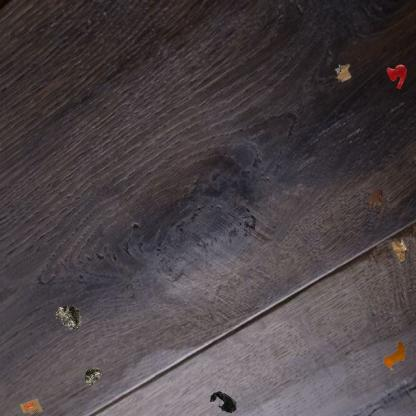dirty: (53, 304, 84, 332), (207, 389, 239, 415), (382, 340, 406, 370), (18, 396, 44, 416), (83, 366, 104, 388), (334, 62, 354, 84), (390, 238, 408, 262)
liquid: (385, 63, 407, 89), (367, 187, 386, 208)
